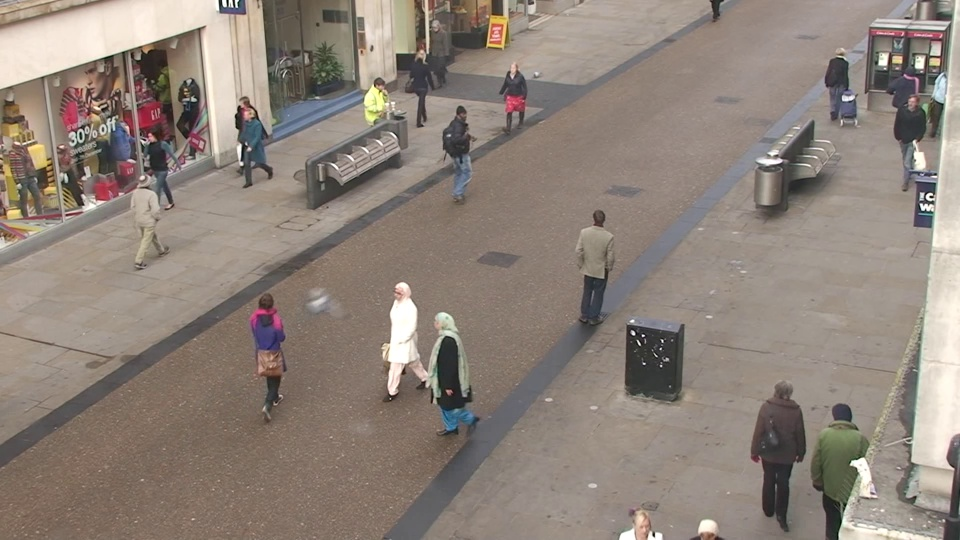pedestrian: (748, 368, 807, 531), (807, 392, 869, 540), (244, 284, 297, 422), (419, 305, 468, 449), (382, 274, 430, 411), (127, 169, 172, 276), (579, 204, 617, 325), (887, 92, 930, 185), (139, 125, 179, 221), (884, 65, 924, 152), (235, 102, 270, 192), (229, 93, 264, 180), (446, 103, 478, 196), (610, 494, 673, 540), (822, 45, 855, 124), (366, 76, 397, 160), (673, 501, 738, 540), (501, 59, 529, 139), (407, 47, 435, 123), (425, 20, 450, 88)
